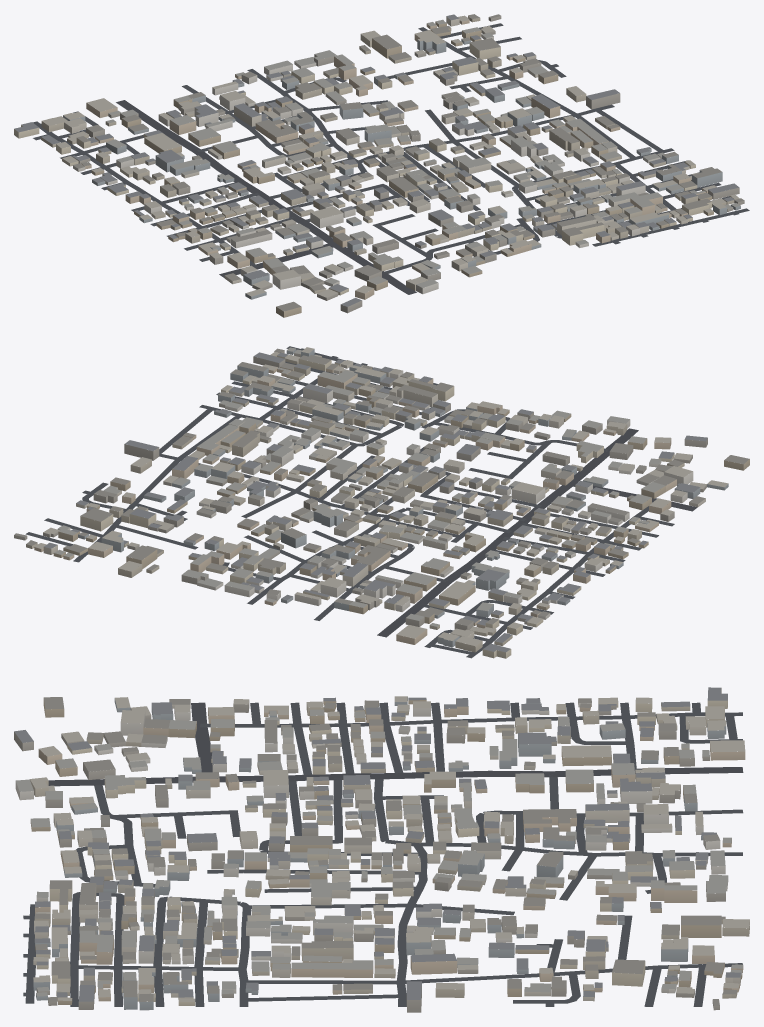
The picture shows the model from 3 angles, top to bottom: view 1: azimuth 30°, elevation 25°; view 2: azimuth 150°, elevation 25°; view 3: azimuth 270°, elevation 25°; orthographic projection. The views are drawn at different scales.
Parts seen in each view (by area): view 1: buildings_roofs, buildings_walls, roads; view 2: buildings_roofs, buildings_walls, roads; view 3: buildings_roofs, buildings_walls, roads.
Part boxes in pixels (x1,y1,x2,y2): buildings_roofs: (14, 14, 744, 311); buildings_walls: (14, 16, 744, 317); roads: (33, 23, 749, 294); buildings_roofs: (14, 347, 749, 652); buildings_walls: (14, 349, 749, 658); roads: (25, 346, 697, 658); buildings_roofs: (14, 687, 749, 1005); buildings_walls: (14, 688, 749, 1012); roads: (23, 702, 743, 1006).
Size of the model in its own units: 521 by 9.61 by 511.
